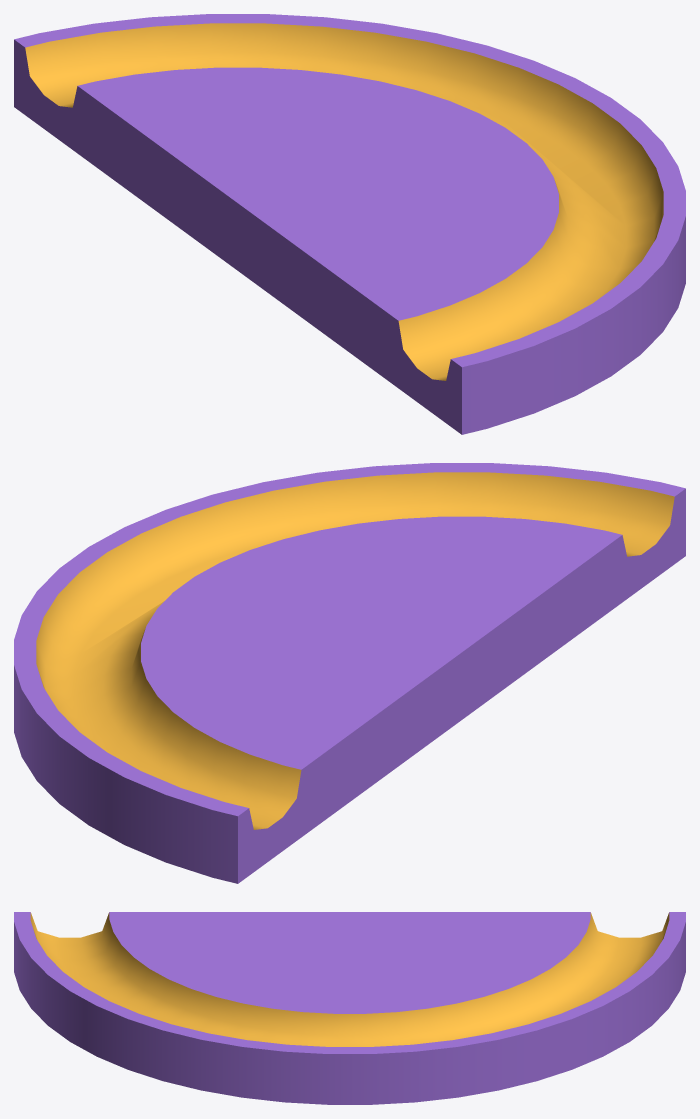
The model's file is bend-solid-large-col.glb.
3 renders of one model, top to bottom at view 1: azimuth 30°, elevation 25°; view 2: azimuth 150°, elevation 25°; view 3: azimuth 270°, elevation 25°, orthographic. The views are drawn at different scales.
Parts seen in each view (by area): view 1: bend-solid-large-col; view 2: bend-solid-large-col; view 3: bend-solid-large-col.
Boxes of the visible parts, box(x1,y1,x2,y2) form: bend-solid-large-col: box(14, 14, 685, 434); bend-solid-large-col: box(14, 463, 685, 883); bend-solid-large-col: box(14, 912, 685, 1104).
Size of the model in its own units: 3 by 0.5 by 6.
Materials: 1 (1 with a texture image).
